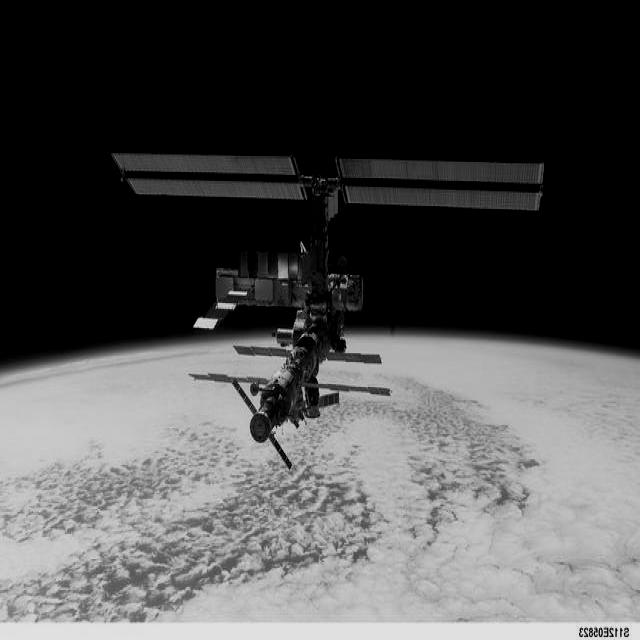satellite: (113, 153, 544, 466)
